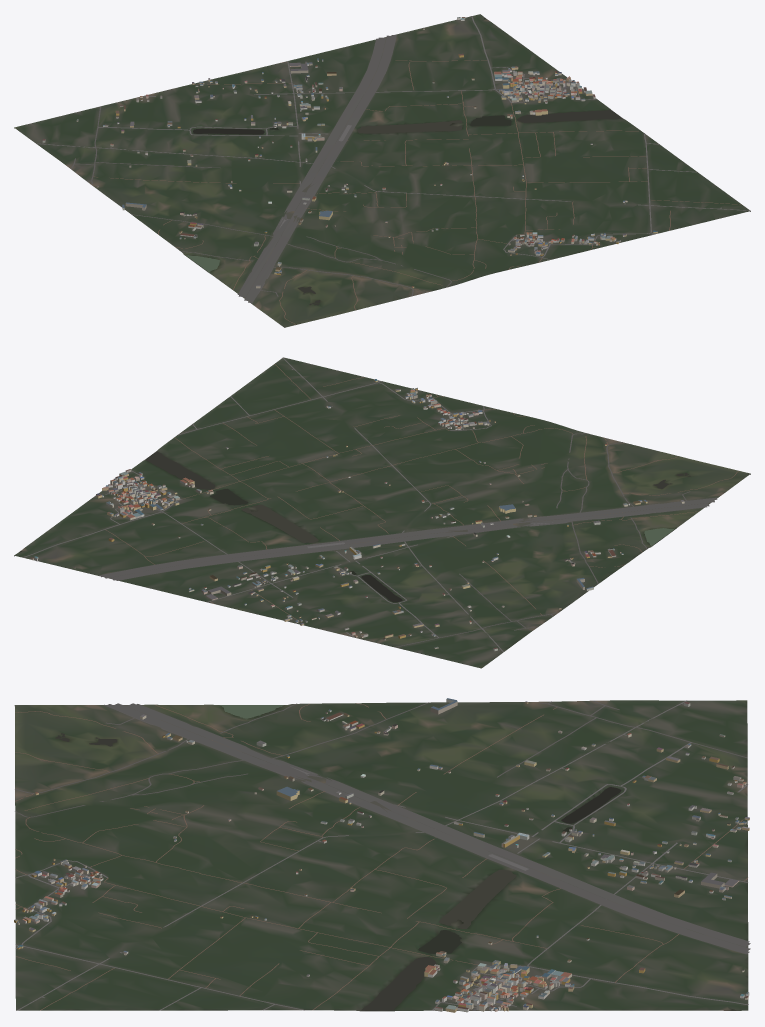
3 renders of one model, top to bottom at view 1: azimuth 30°, elevation 25°; view 2: azimuth 150°, elevation 25°; view 3: azimuth 270°, elevation 25°, orthographic. The views are drawn at different scales.
Visible parts, largest first — view 1: ground, roads, buildings, water; view 2: ground, roads, buildings, water; view 3: ground, roads, buildings, water.
Boxes of the visible parts, x1=… form: ground: x1=14, y1=14, x2=750, y2=327; roads: x1=36, y1=16, x2=750, y2=324; buildings: x1=42, y1=17, x2=657, y2=288; water: x1=186, y1=17, x2=622, y2=305; ground: x1=14, y1=357, x2=750, y2=668; roads: x1=22, y1=357, x2=738, y2=652; buildings: x1=30, y1=379, x2=684, y2=651; water: x1=19, y1=451, x2=690, y2=602; ground: x1=14, y1=700, x2=748, y2=1011; roads: x1=15, y1=700, x2=750, y2=1010; buildings: x1=14, y1=698, x2=749, y2=1012; water: x1=55, y1=705, x2=735, y2=1010.
Size of the model in its own units: 1414 by 22.22 by 1410.
